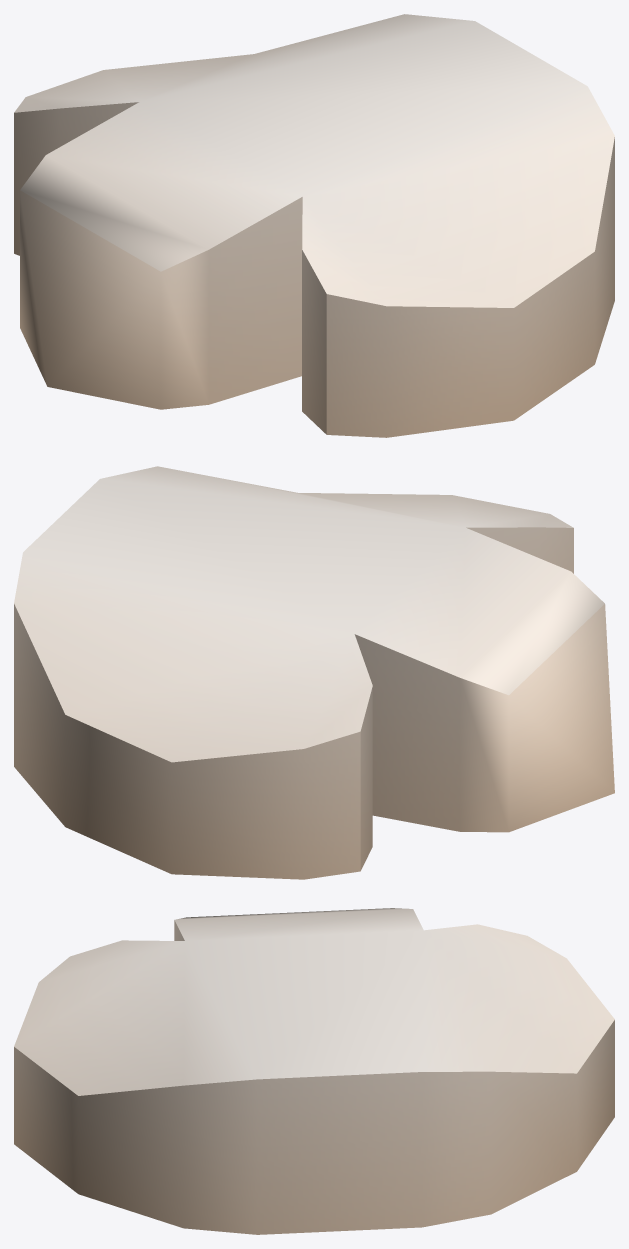
The model's file is food_ingredient_mushroom_gib_D.gltf.
3 views of the same model, one above another, from view 1: azimuth 30°, elevation 25°; view 2: azimuth 150°, elevation 25°; view 3: azimuth 270°, elevation 25° (orthographic). The views are drawn at different scales.
Parts seen in each view (by area): view 1: food_ingredient_mushroom_pieces.003; view 2: food_ingredient_mushroom_pieces.003; view 3: food_ingredient_mushroom_pieces.003.
Part boxes in pixels (x1=…): food_ingredient_mushroom_pieces.003: x1=14, y1=14, x2=614, y2=437; food_ingredient_mushroom_pieces.003: x1=14, y1=466, x2=614, y2=879; food_ingredient_mushroom_pieces.003: x1=14, y1=908, x2=614, y2=1234.
Size of the model in its own units: 0.1584 by 0.0513 by 0.1796.
1 material, 1 textured.
